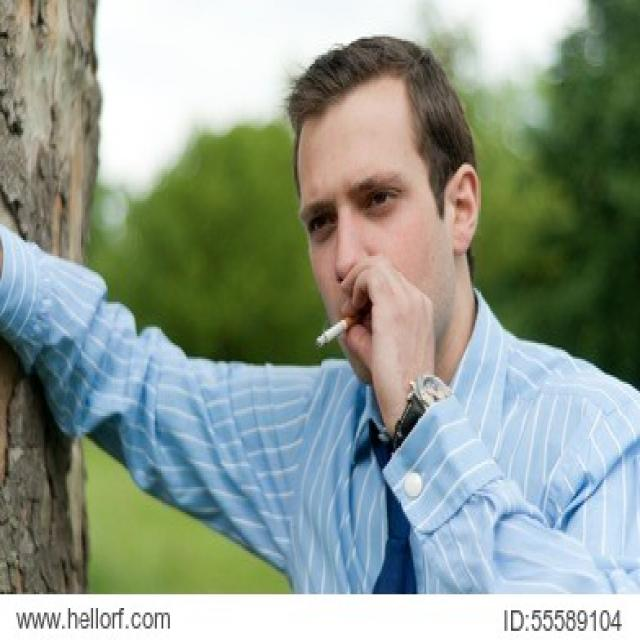smoke: (316, 314, 364, 350)
